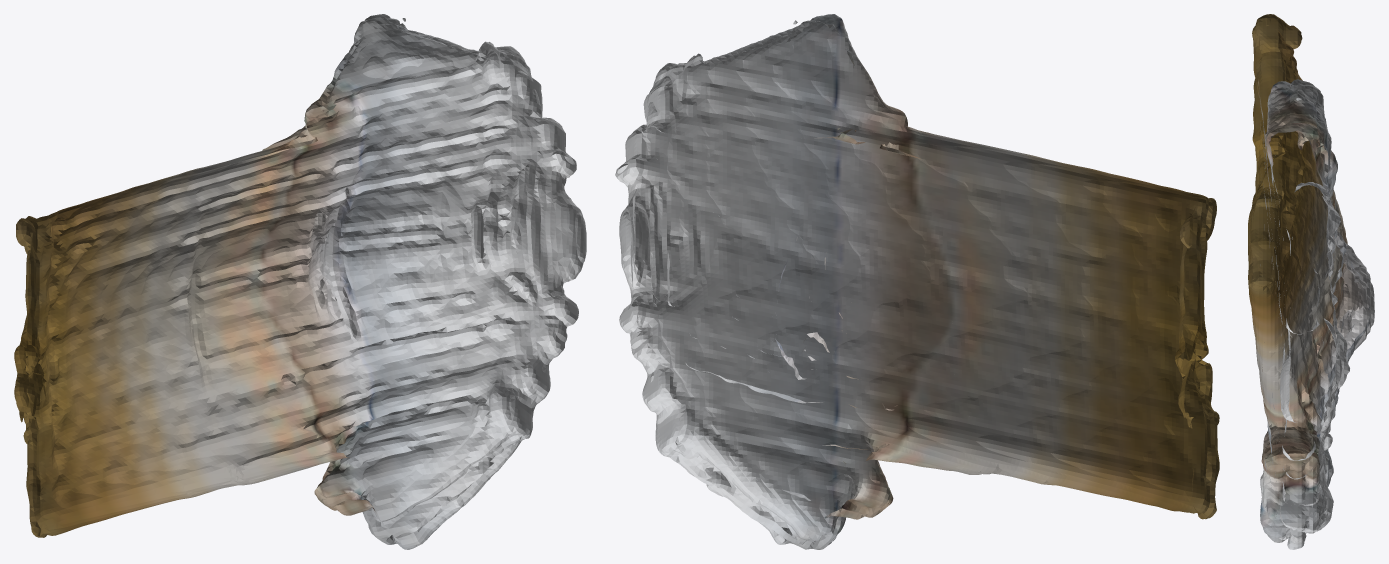
The picture shows the model from 3 angles, left to right: view 1: azimuth 30°, elevation 25°; view 2: azimuth 150°, elevation 25°; view 3: azimuth 270°, elevation 25°; orthographic projection. The views are drawn at different scales.
Visible parts, largest first — view 1: world; view 2: world; view 3: world.
Part boxes in pixels (x1,y1,x2,y2): world: [14, 14, 586, 549]; world: [615, 14, 1219, 549]; world: [1248, 14, 1374, 549].
Bounding box in the file's own units: 0.9997 × 0.8809 × 0.2248.
